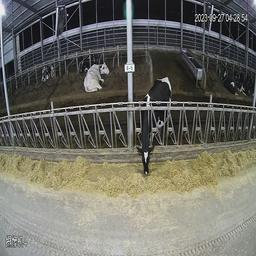cow: (136, 75, 172, 178), (83, 63, 110, 93), (220, 65, 238, 97), (41, 65, 55, 81)
